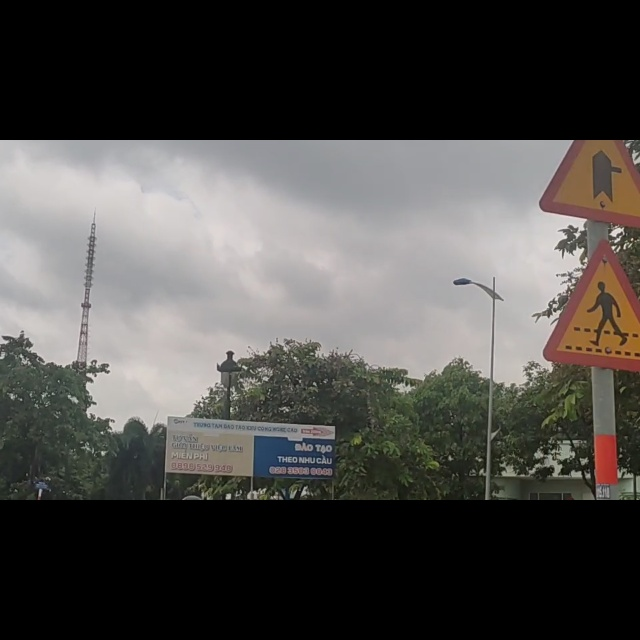bien_nguy_hiem: (545, 184, 640, 412), (538, 6, 639, 153)
